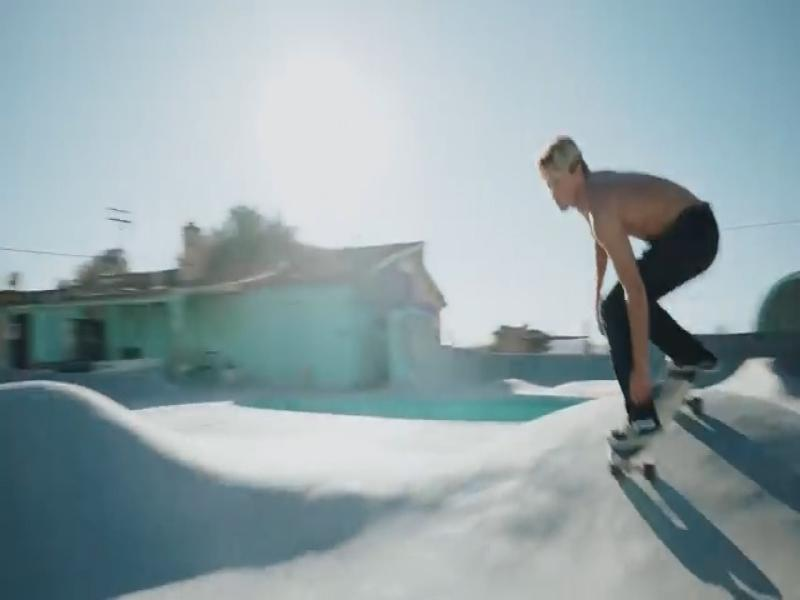person: (538, 138, 719, 457)
skate: (605, 361, 708, 486)
